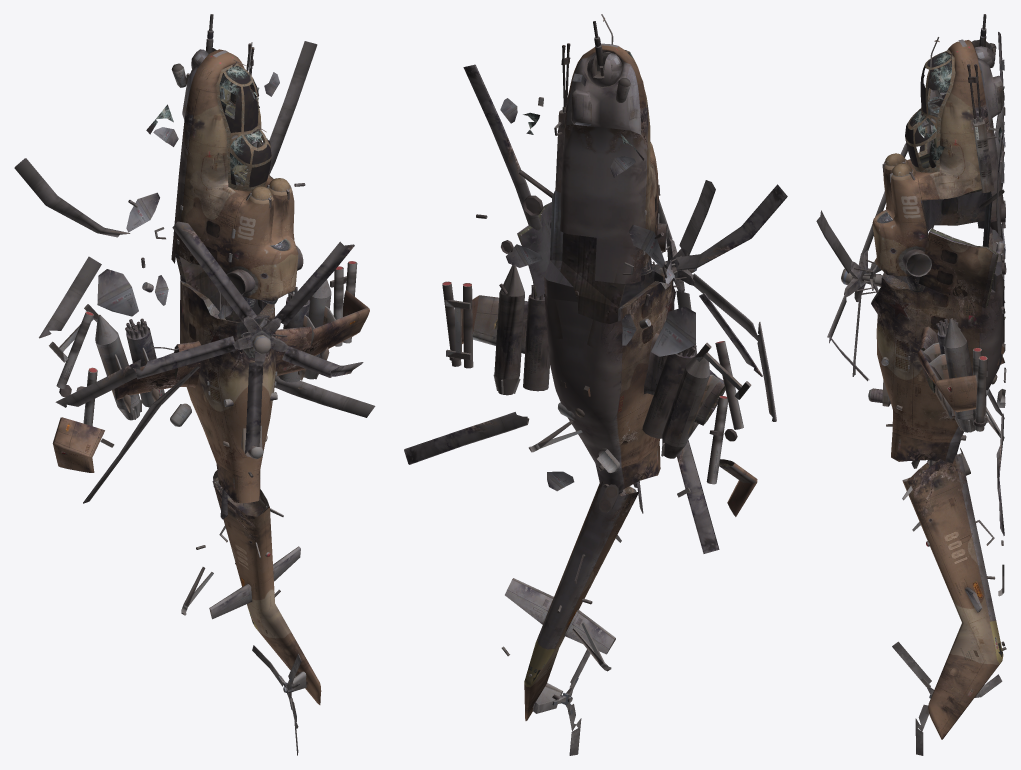
File: vehicle_mi24p_hind_desert_destroy_LOD0.obj
3 views of the same model, side by side, from view 1: azimuth 30°, elevation 25°; view 2: azimuth 150°, elevation 25°; view 3: azimuth 270°, elevation 25° (orthographic). The views are drawn at different scales.
Visible parts, largest first — view 1: mtl_mi24p_hind_desert_destroy, mtl_mi24p_hind_desert_window_destroy; view 2: mtl_mi24p_hind_desert_destroy; view 3: mtl_mi24p_hind_desert_destroy, mtl_mi24p_hind_desert_window_destroy.
Boxes of the visible parts, box(x1,y1,x2,y2) form: mtl_mi24p_hind_desert_destroy: box(14, 14, 375, 755); mtl_mi24p_hind_desert_window_destroy: box(146, 50, 271, 191); mtl_mi24p_hind_desert_destroy: box(404, 14, 787, 755); mtl_mi24p_hind_desert_destroy: box(816, 14, 1006, 755); mtl_mi24p_hind_desert_window_destroy: box(905, 39, 1004, 172).
Bounding box in the file's own units: 981 × 1892 × 456.
Materials: 2 (2 with a texture image).
